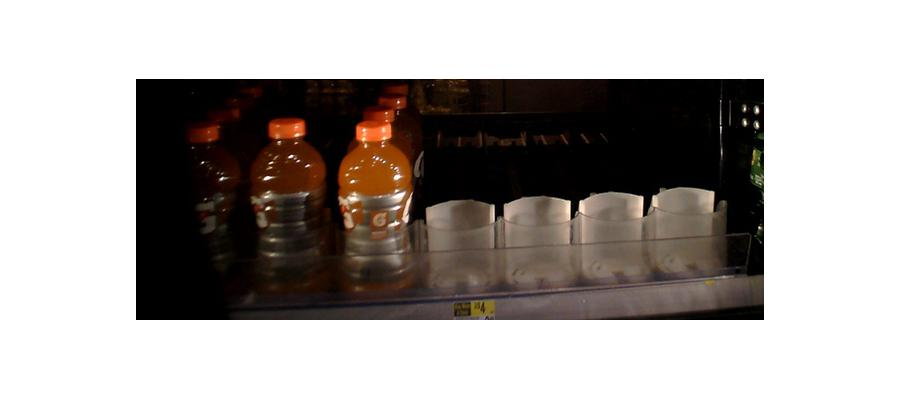bottle: (336, 114, 416, 295), (251, 114, 327, 303), (419, 160, 506, 288), (183, 126, 239, 294), (575, 177, 657, 287), (500, 176, 582, 282), (648, 168, 723, 279)
